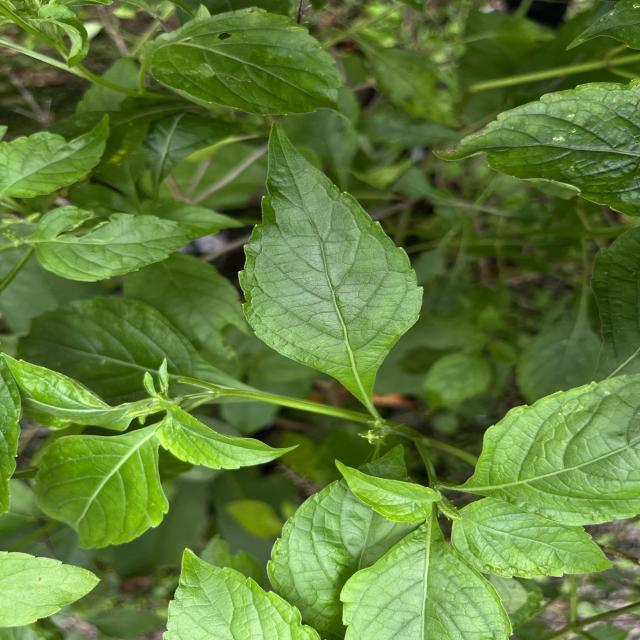Ocimum gratissimum: (232, 112, 426, 404), (461, 371, 640, 529), (335, 516, 516, 640), (26, 418, 176, 552)
